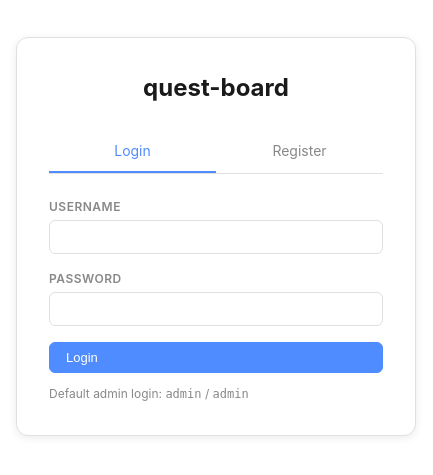
Test: AuthPage › switches to register tab on click
The width and height of the screenshot is (433, 475).
Click the text "Register".
click(300, 150)  # box [272, 142, 327, 158]
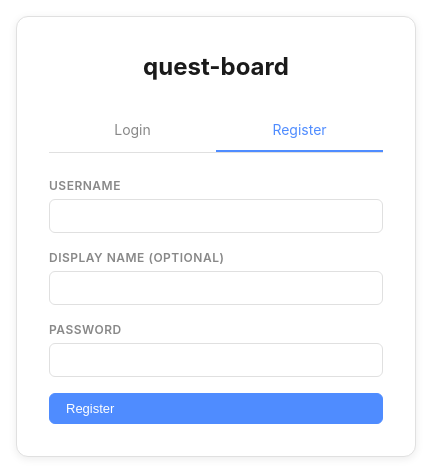
Expected: the text "Display Name (optional)" is shown, [49, 250, 224, 264]
Expected: the button "Register" is shown, [49, 392, 383, 424]
Expected: the text "Default admin login" is gone
